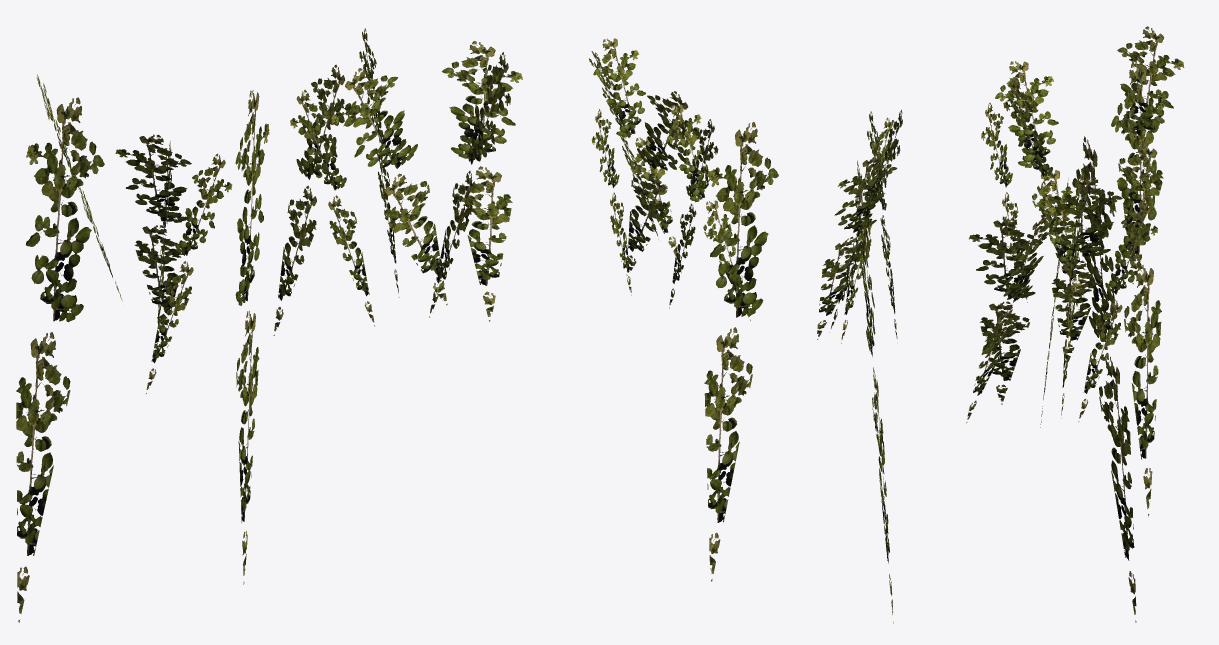
Rendered from NW_NATURE_SMALLWEED_24P.glb.
The picture shows the model from 3 angles, left to right: view 1: azimuth 30°, elevation 25°; view 2: azimuth 150°, elevation 25°; view 3: azimuth 270°, elevation 25°; orthographic projection. The views are drawn at different scales.
Visible parts, largest first — view 1: Mesh; view 2: Mesh; view 3: Mesh.
Part boxes in pixels (x1,y1,x2,y2): Mesh: [16, 28, 522, 622]; Mesh: [588, 38, 902, 623]; Mesh: [966, 26, 1184, 622].
Bounding box in the file's own units: 3.26 × 3.88 × 1.72.
Materials: 1 (1 with a texture image).
